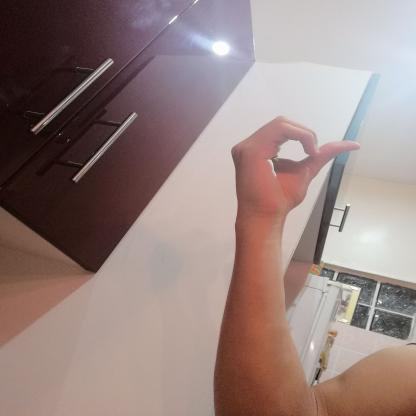WAW: (215, 107, 371, 226)
